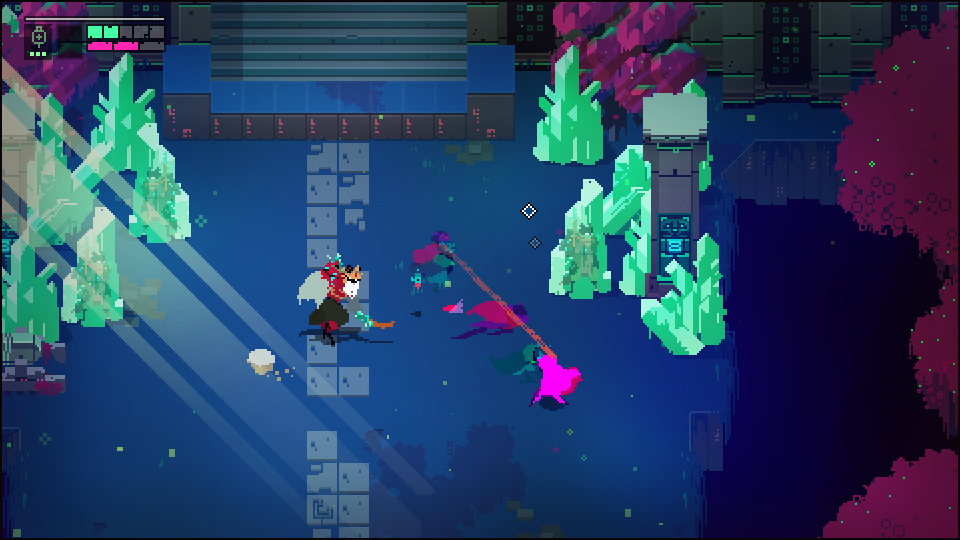hanged_man: (295, 261, 399, 341)
player: (536, 354, 579, 412)
